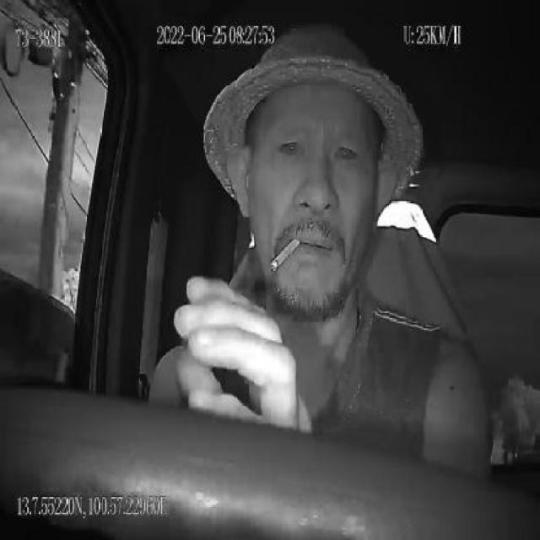smoking: (269, 229, 302, 275)
